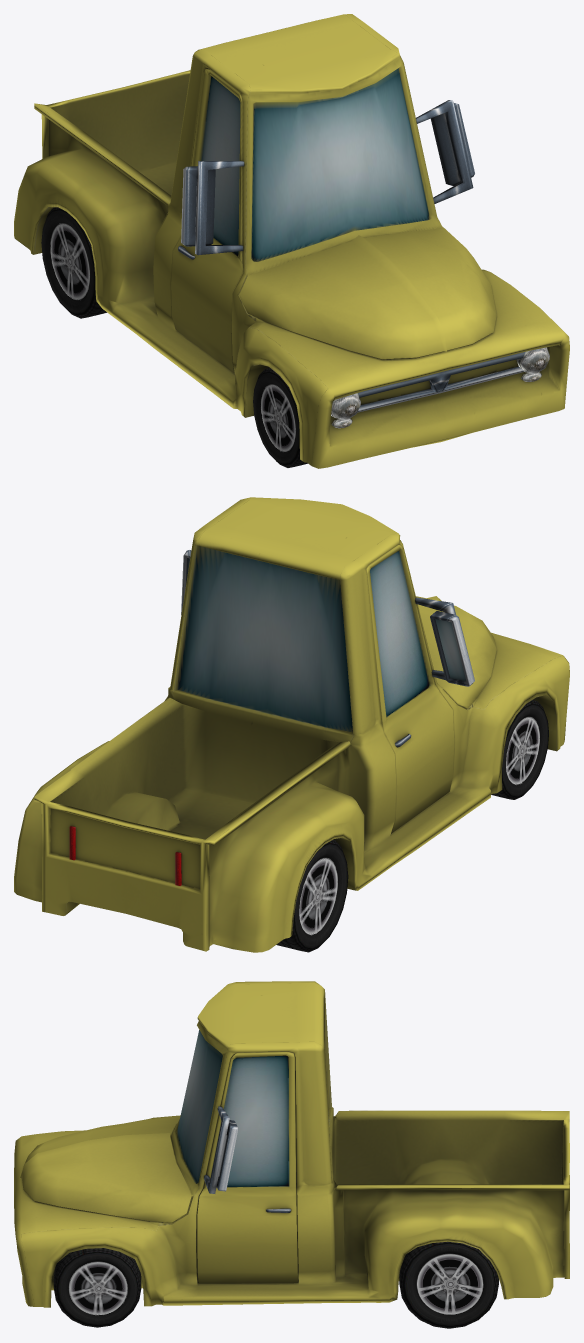
The model's file is car3.fbx.
3 views of the same model, one above another, from view 1: azimuth 30°, elevation 25°; view 2: azimuth 150°, elevation 25°; view 3: azimuth 270°, elevation 25° (orthographic). The views are drawn at different scales.
Visible parts, largest first — view 1: car, back_wheels, front_wheels; view 2: car, back_wheels, front_wheels; view 3: car, back_wheels, front_wheels.
Boxes of the visible parts, left/top/right/bottom form: car: left=14, top=14, right=569, bottom=468; back_wheels: left=41, top=207, right=106, bottom=318; front_wheels: left=253, top=368, right=307, bottom=467; car: left=14, top=497, right=569, bottom=952; back_wheels: left=276, top=839, right=348, bottom=952; front_wheels: left=491, top=700, right=548, bottom=799; car: left=14, top=981, right=569, bottom=1307; back_wheels: left=399, top=1241, right=498, bottom=1328; front_wheels: left=53, top=1248, right=141, bottom=1327.
Bounding box in the file's own units: 10.72 × 10.97 × 20.8.
